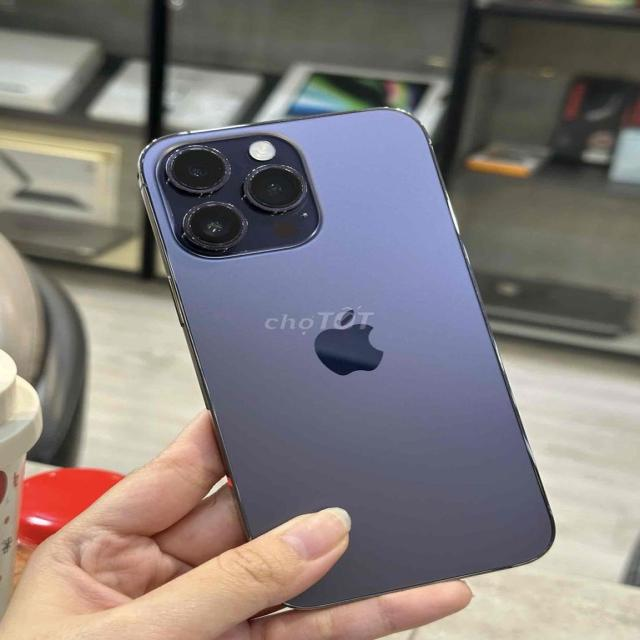gen_14: (131, 106, 554, 615)
